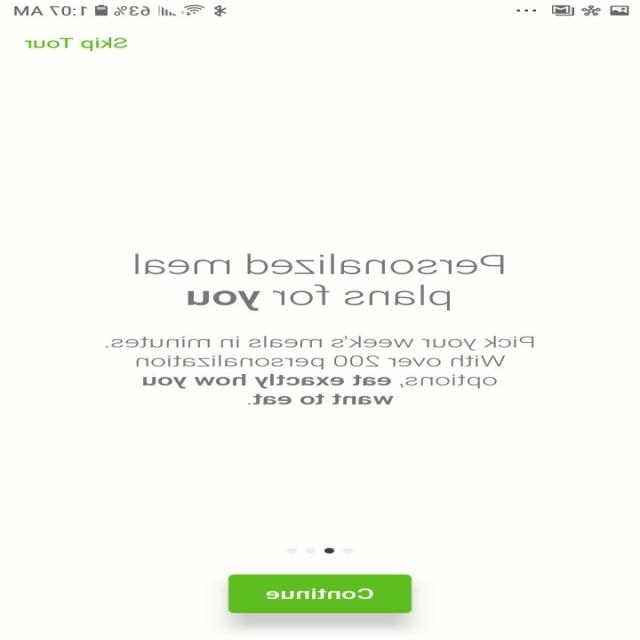Text: (106, 336, 534, 404), (135, 253, 505, 311), (26, 37, 128, 51)
TextButton: (228, 574, 412, 613)
